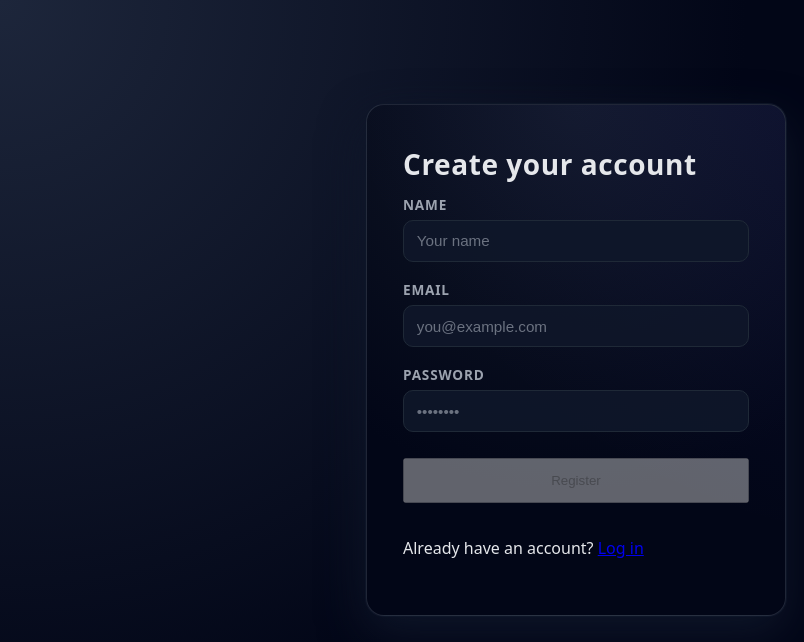
RegisterPage › enables the register button when all fields are valid
This screenshot has width=804, height=642.
Type "Regina" into the field with test id "register-input-name" at (576, 241), box [403,220,749,262]
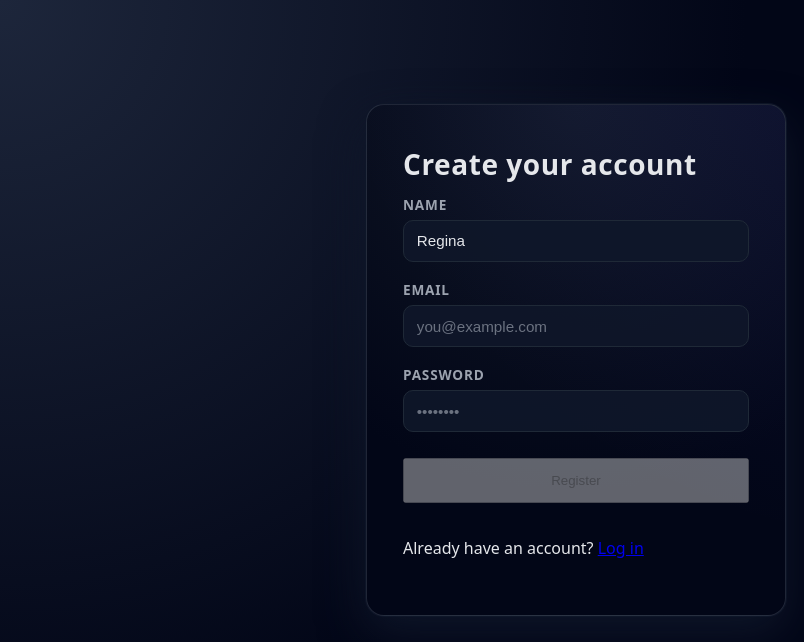
Type "regina@example.com" into the field with test id "register-input-email" at (576, 326), box [403,305,749,347]
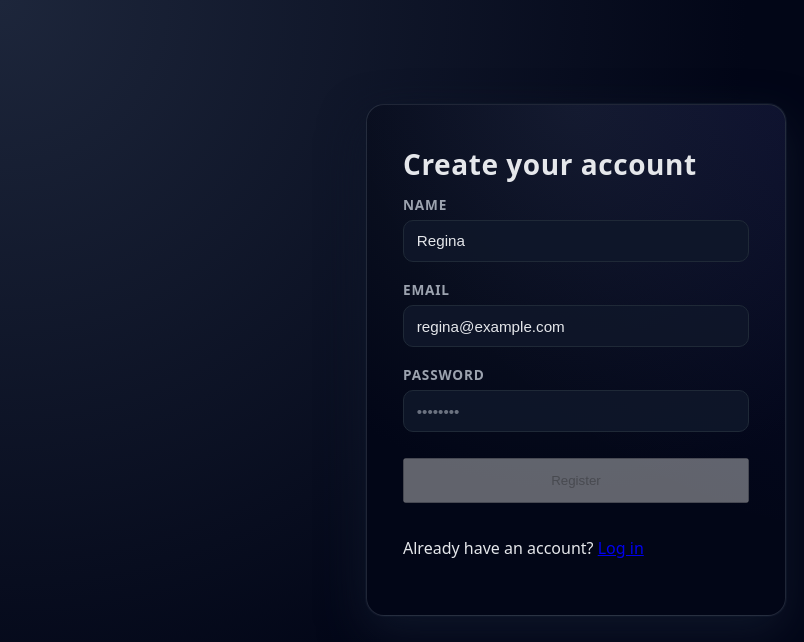
Type "Password1!" into the password field with test id "register-input-password" at (576, 411), box [403,390,749,432]
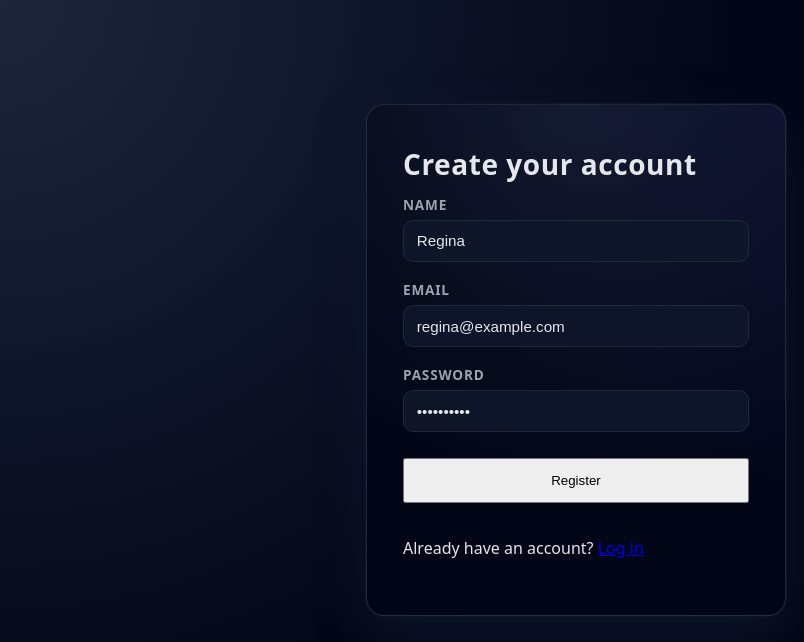
Now the button with test id "register-button" is enabled, box [403,458,749,503]
